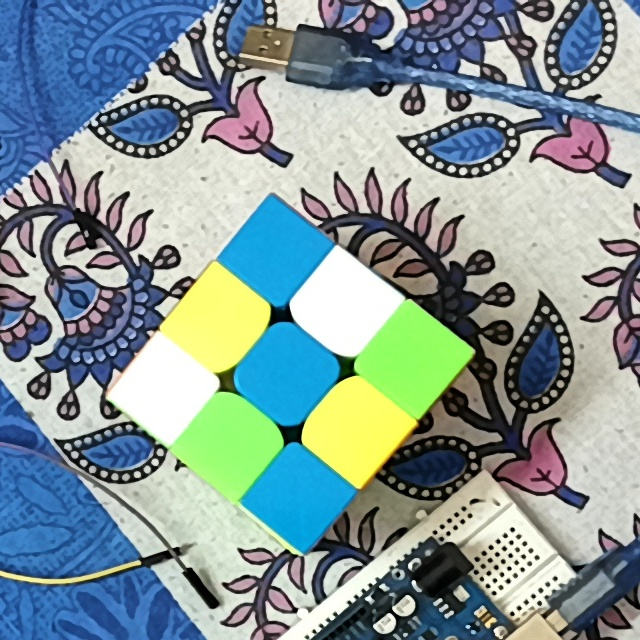tile: (247, 221, 305, 284), (325, 399, 385, 459), (271, 465, 328, 528), (386, 325, 438, 393), (132, 360, 192, 418), (189, 297, 245, 354), (259, 348, 315, 405), (201, 419, 259, 474), (318, 275, 374, 331)
